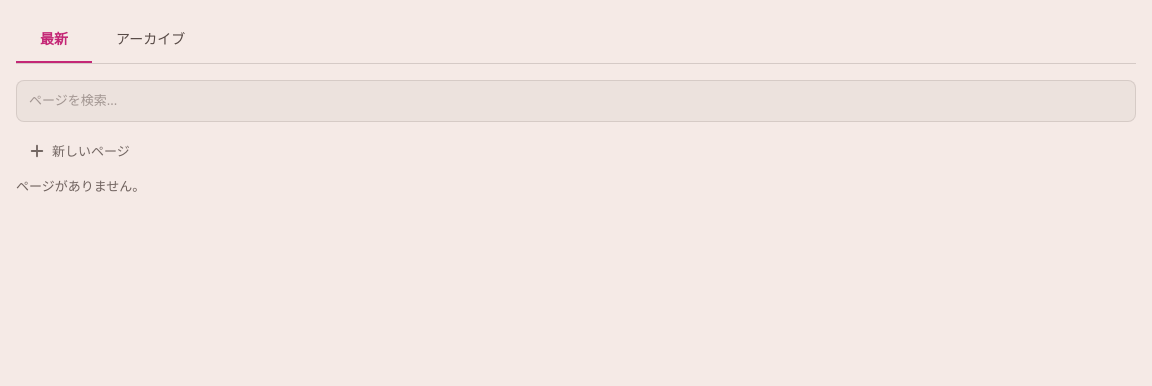
Test: Sidebar › archive search › shows all archives when search is cleared
The image size is (1152, 386).
Click the tab "アーカイブ": (151, 40) [92,16,209,63]
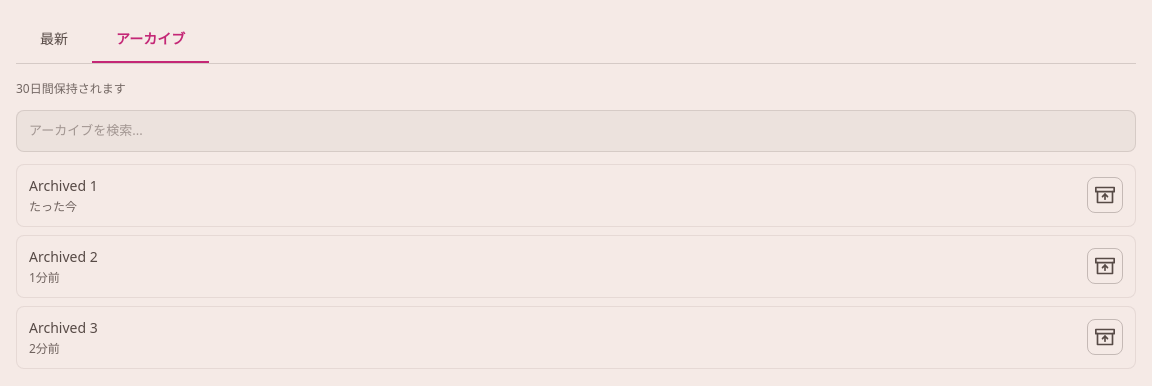
In the field labelled "アーカイブを検索": (576, 131) [16,110,1136,152], type "Archived 1"
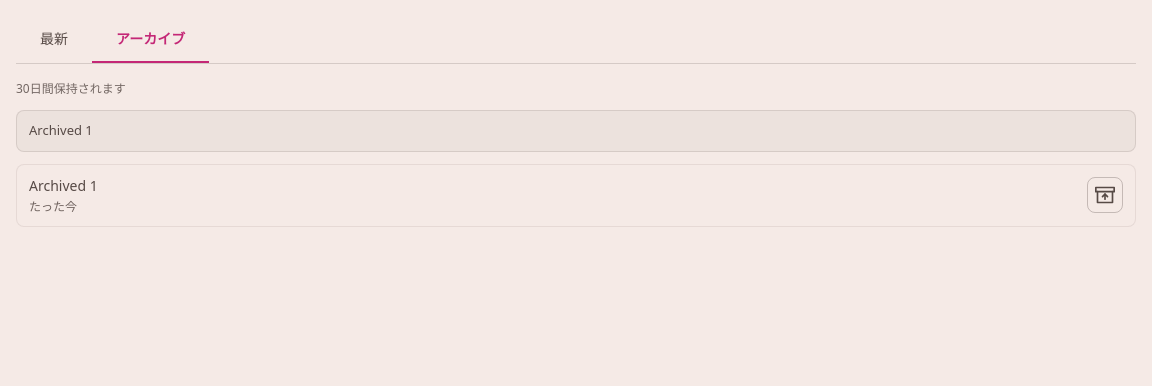
Clear the field named "アーカイブを検索": (576, 131) [16,110,1136,152]
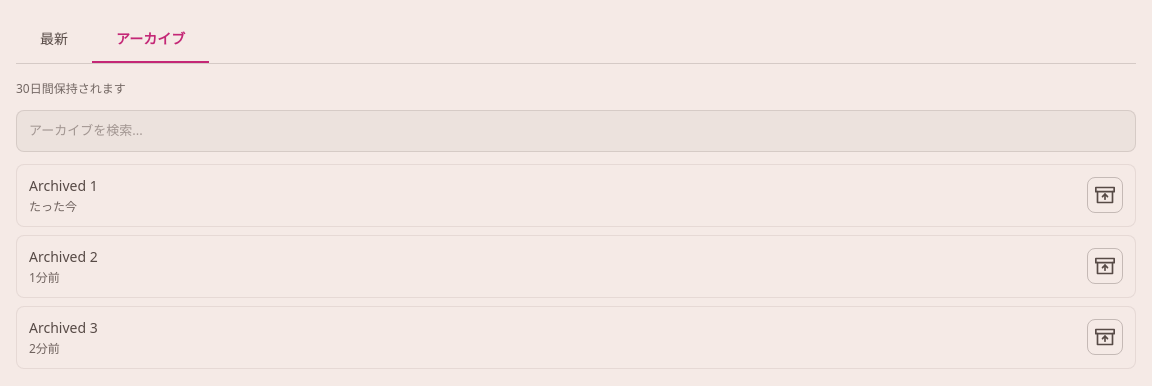
Result: the heading "Archived 1" is shown at [29,176,98,194]
Result: the heading "Archived 2" is shown at [29,246,98,266]
